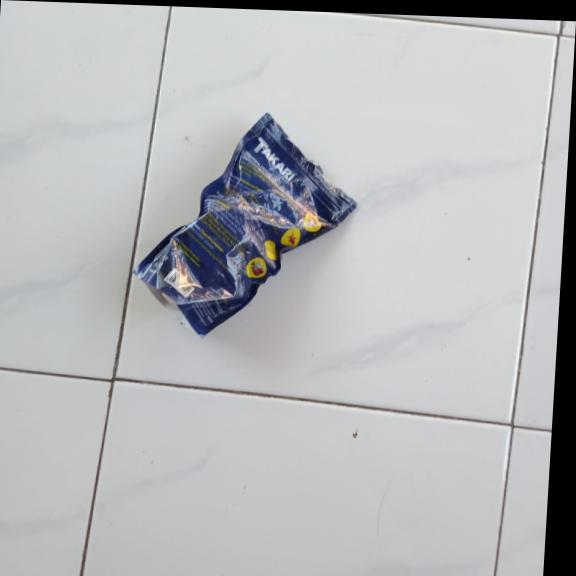Plastik: (128, 108, 361, 345)
